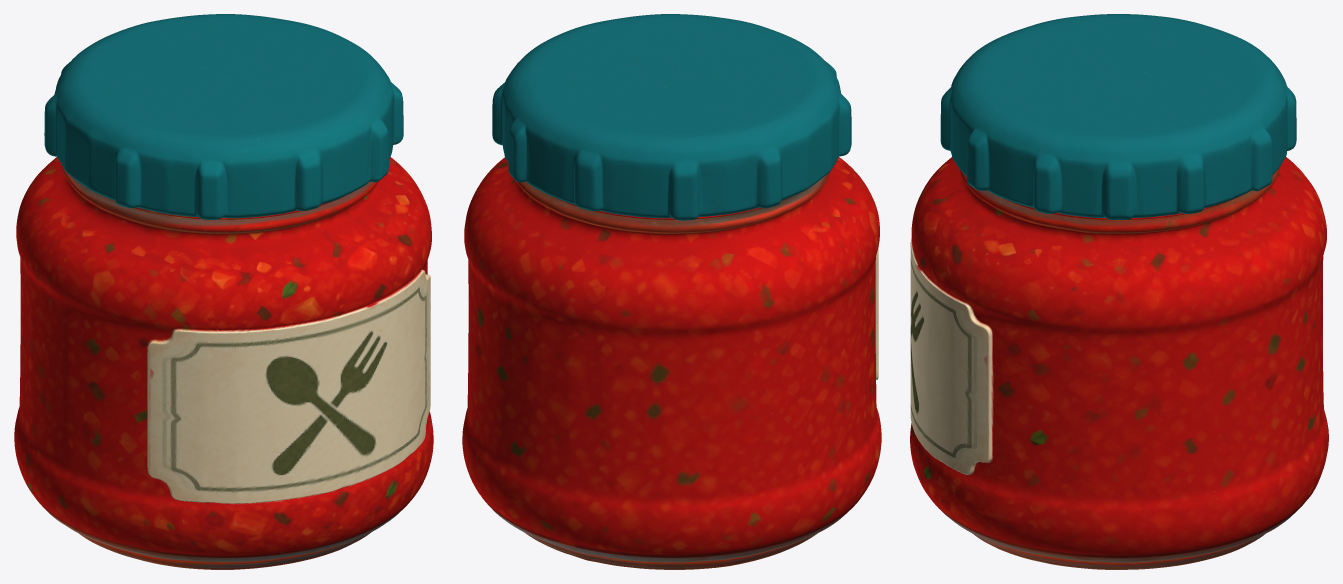
The model's file is salsa_jar.glb.
3 renders of one model, left to right at view 1: azimuth 30°, elevation 25°; view 2: azimuth 150°, elevation 25°; view 3: azimuth 270°, elevation 25°, orthographic.
Bounding box in the file's own units: 1.69 × 1.9 × 1.69.
Materials: 1 (1 with a texture image).
